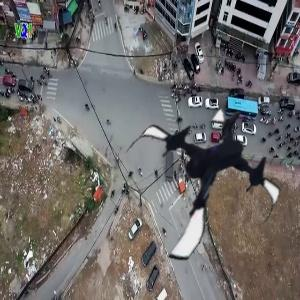drone: (119, 99, 286, 266)
